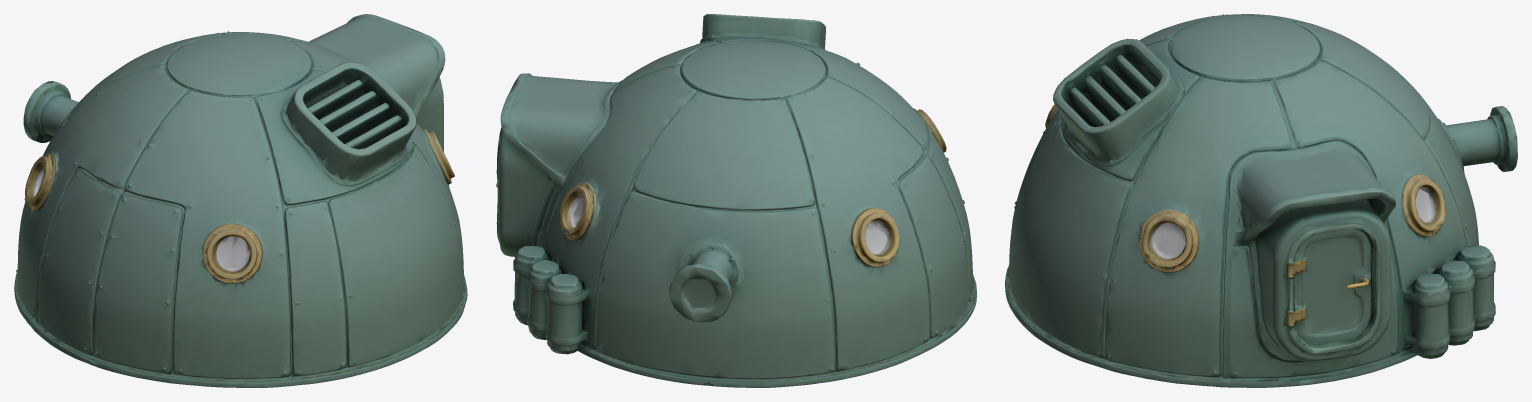
Rendered from etalon-zhiloy-kupol.glb.
The picture shows the model from 3 angles, left to right: view 1: azimuth 30°, elevation 25°; view 2: azimuth 150°, elevation 25°; view 3: azimuth 270°, elevation 25°; orthographic projection. The views are drawn at different scales.
Visible parts, largest first — view 1: tripo_node_3eb7924f-ac6f-41bd-98ac-9f2a0b823c71; view 2: tripo_node_3eb7924f-ac6f-41bd-98ac-9f2a0b823c71; view 3: tripo_node_3eb7924f-ac6f-41bd-98ac-9f2a0b823c71.
Part boxes in pixels (box(x1,y1,x2,y2)): tripo_node_3eb7924f-ac6f-41bd-98ac-9f2a0b823c71: box(14, 14, 467, 387); tripo_node_3eb7924f-ac6f-41bd-98ac-9f2a0b823c71: box(496, 14, 976, 387); tripo_node_3eb7924f-ac6f-41bd-98ac-9f2a0b823c71: box(1005, 14, 1517, 387).
Size of the model in its own units: 0.9853 by 0.5385 by 0.9935.
Materials: 1 (1 with a texture image).
